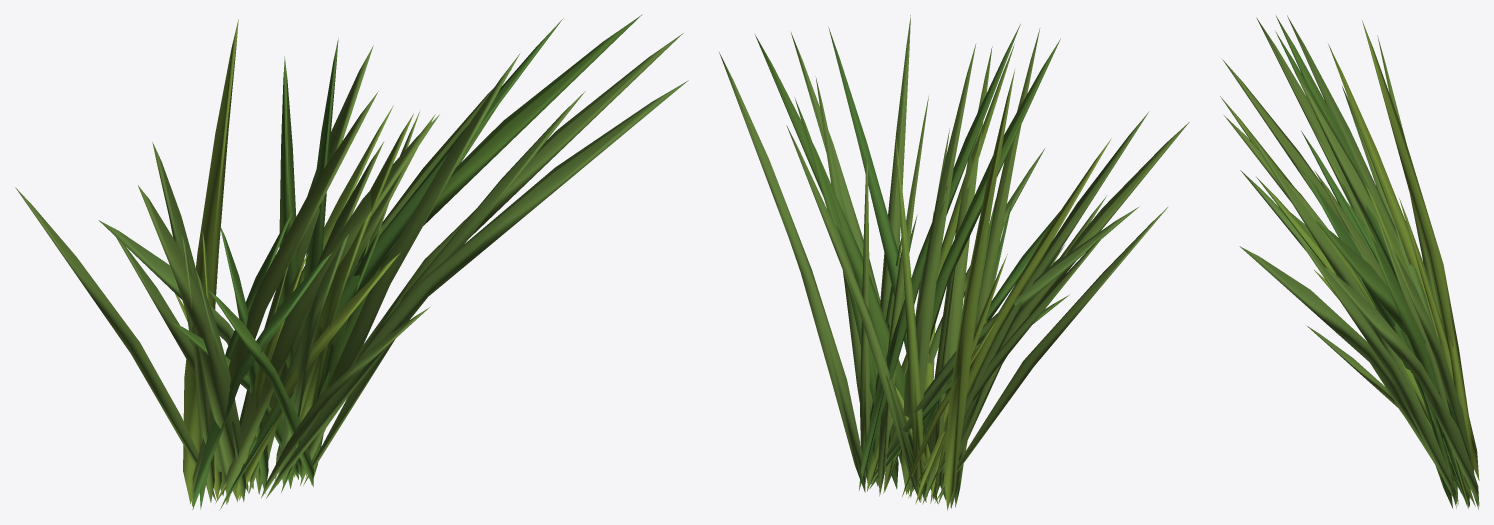
Rendered from walltuft_large.glb.
3 renders of one model, left to right at view 1: azimuth 30°, elevation 25°; view 2: azimuth 150°, elevation 25°; view 3: azimuth 270°, elevation 25°, orthographic. The views are drawn at different scales.
Visible parts, largest first — view 1: Sammel Pflanze; view 2: Sammel Pflanze; view 3: Sammel Pflanze.
Boxes of the visible parts, x1,y1,x2,y2 form: Sammel Pflanze: (15,14,688,510); Sammel Pflanze: (719,15,1189,510); Sammel Pflanze: (1220,15,1479,509).
Bounding box in the file's own units: 0.6314 × 0.5248 × 0.2772.
